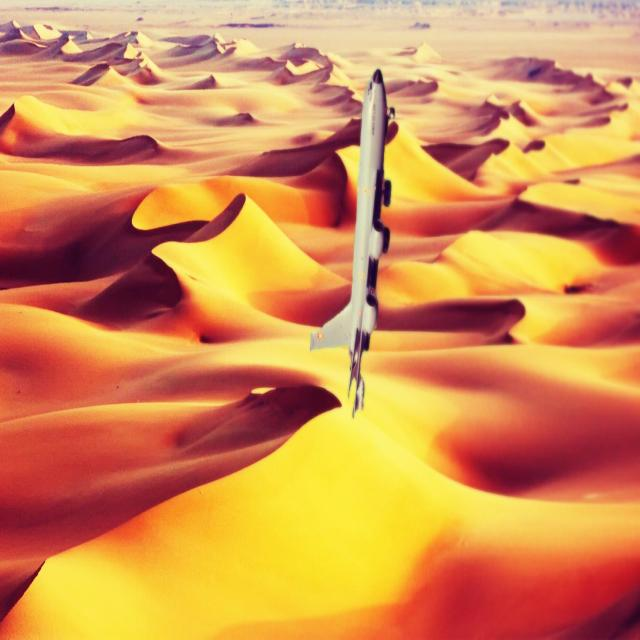airplane: (308, 65, 396, 420)
